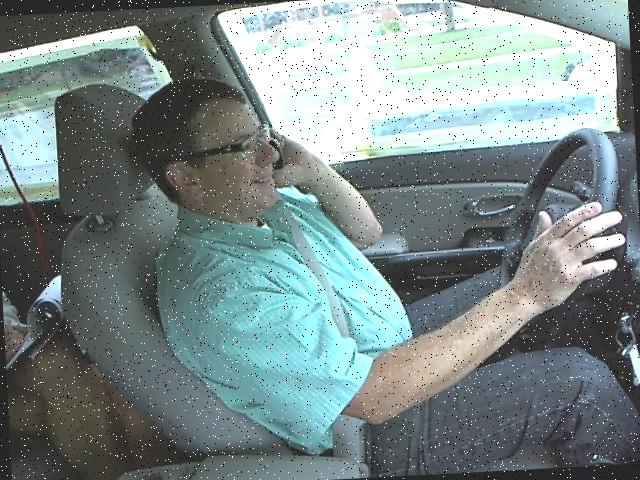c2 - Talking on the phone: (115, 49, 627, 437)
